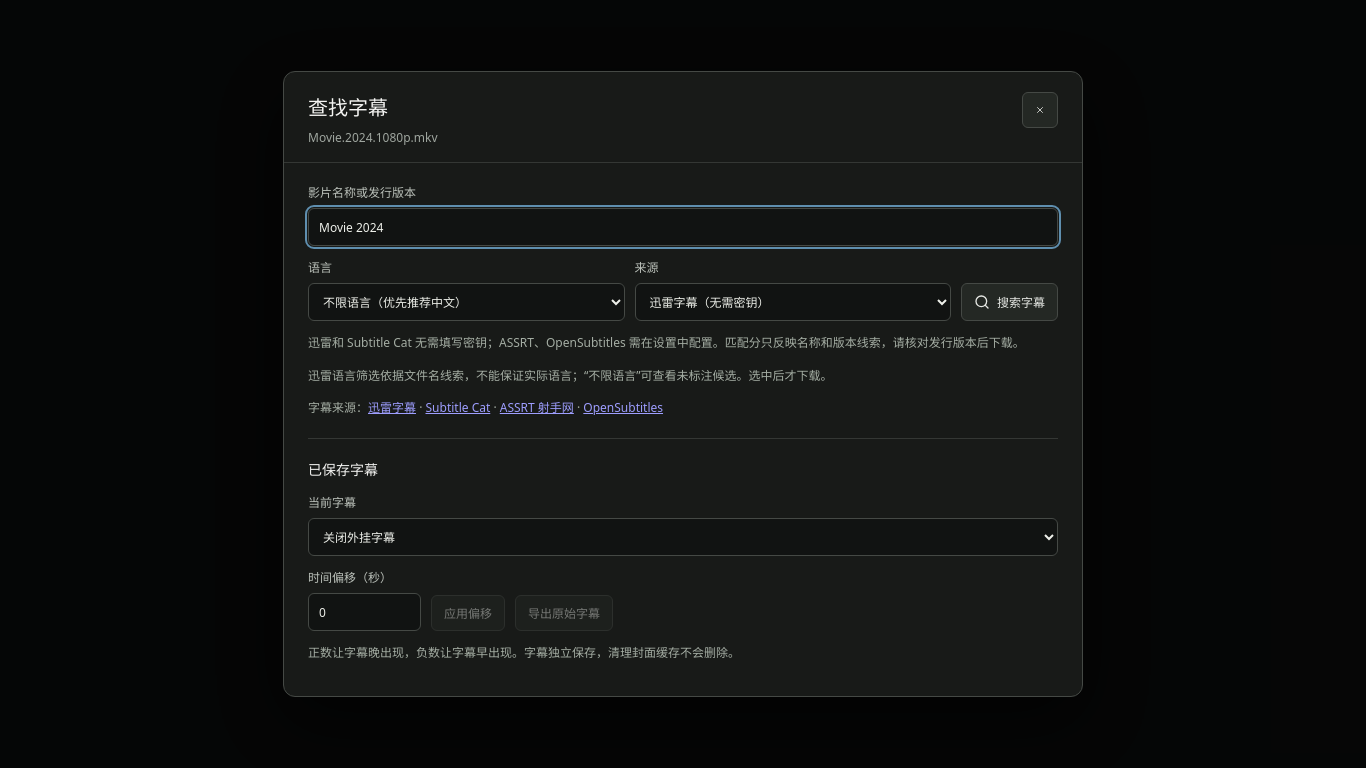
Test case: subtitle interaction › searches by editable name, shows version clues and sends only IDs for download
This screenshot has width=1366, height=768.
Later steps or results of the test are not shown.
Expected: the field labelled "影片名称或发行版本" holds "Movie 2024", [308,208,1058,246]
Click the button "搜索字幕". click: click(1010, 302)
box: [961,283,1058,321]
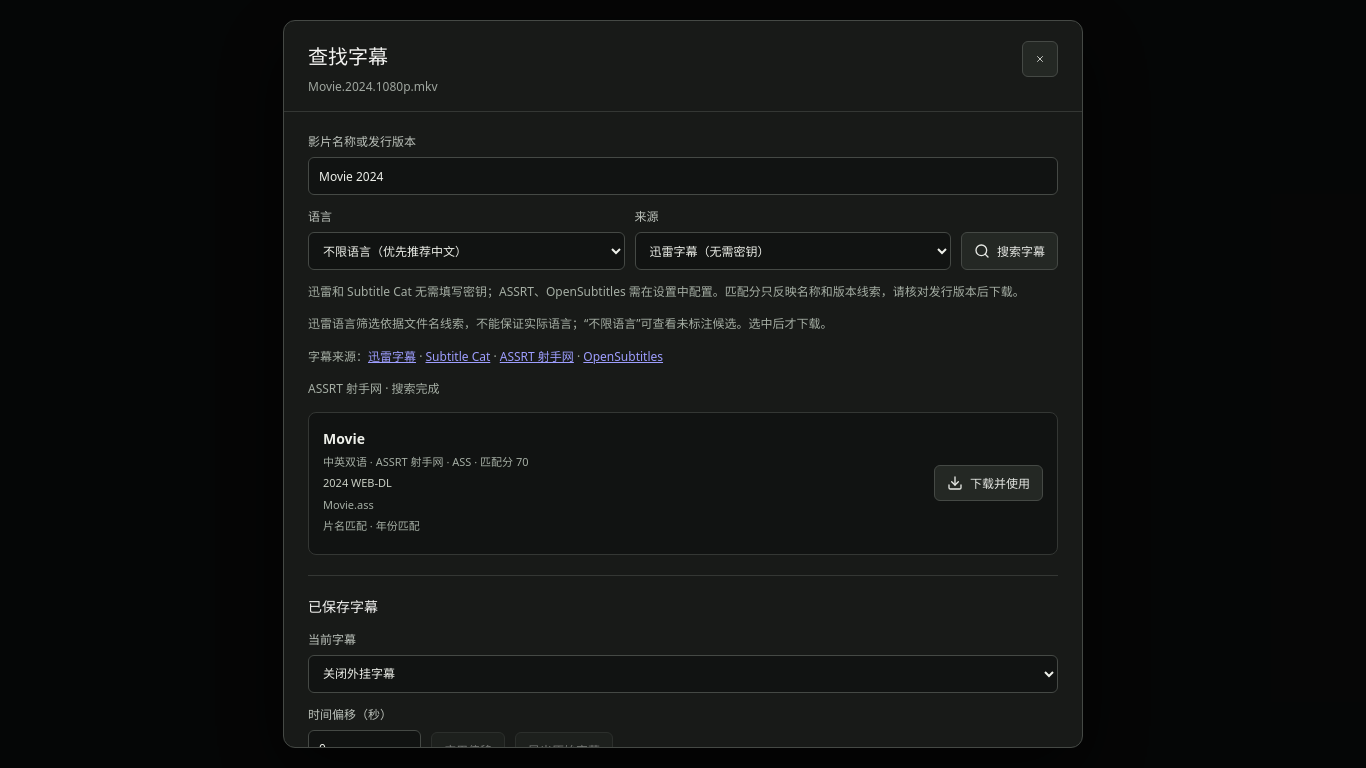
Expected: the text "2024 WEB-DL" is shown, [323,475,392,490]
Expected: the text "片名匹配 · 年份匹配" is shown, [323,518,420,533]
